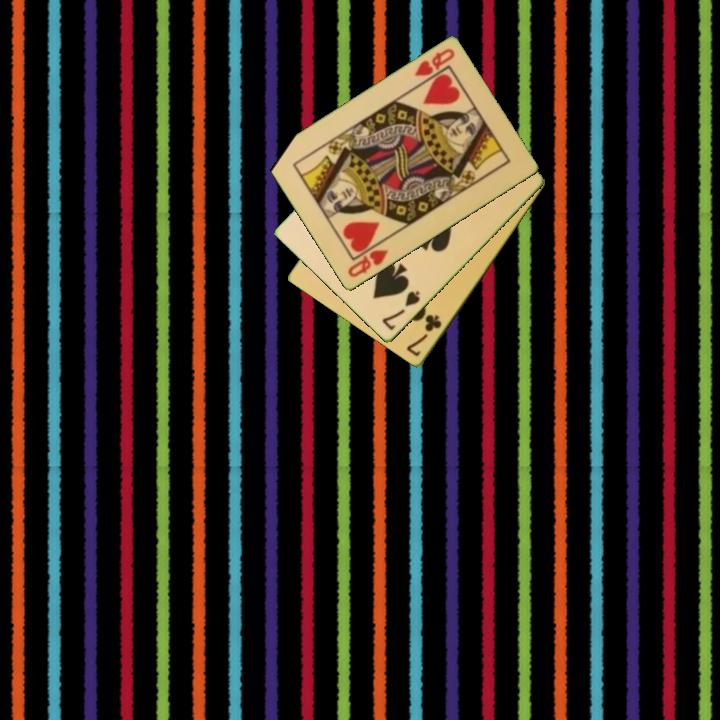7c: (403, 311, 445, 360)
7s: (378, 288, 423, 334)
Qh: (344, 246, 391, 281), (411, 45, 458, 80)
